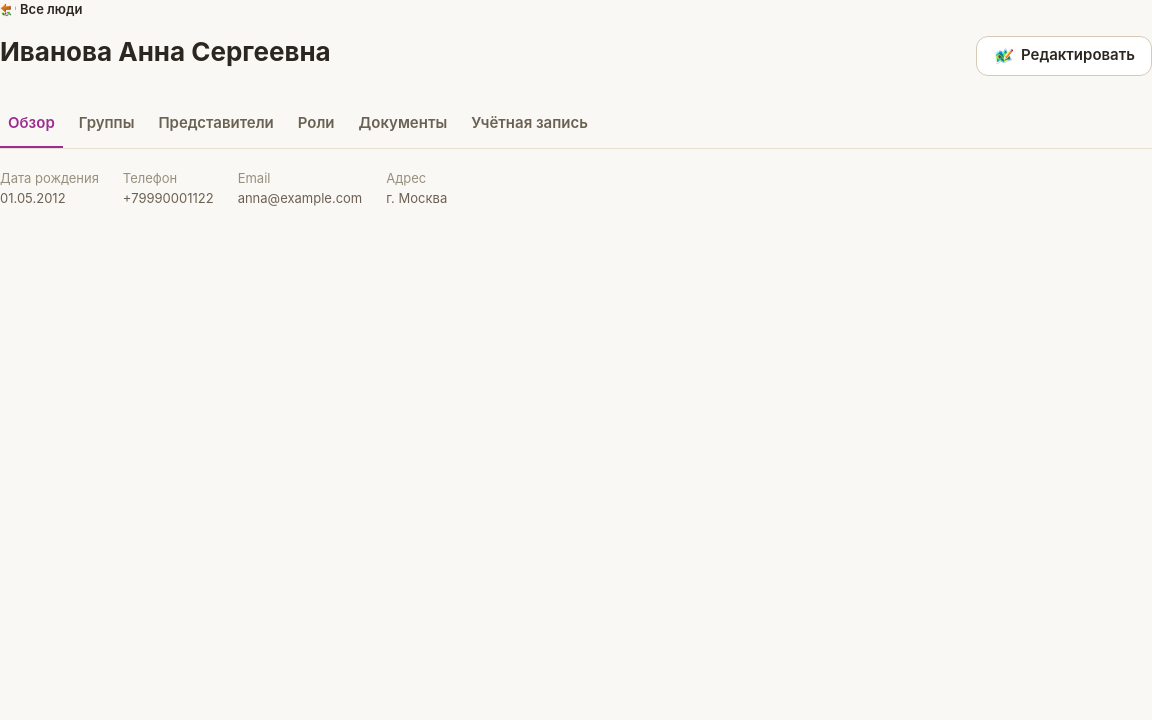
Test: PersonDetailPage › offers birth_date editing to an admin but not to a non-admin role
Step 1. Click the button "Редактировать" → click(1064, 56), box x1=976 y1=36 x2=1151 y2=76
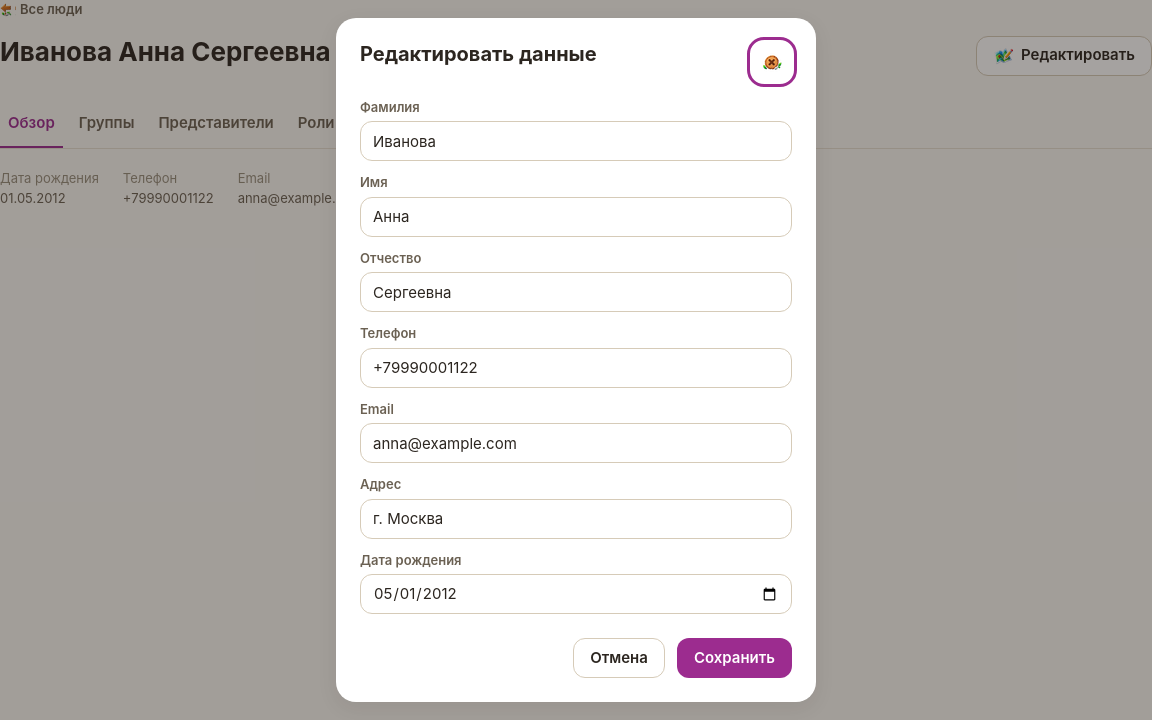
Result: the date field labelled "Дата рождения" is shown at x1=360 y1=574 x2=792 y2=614
